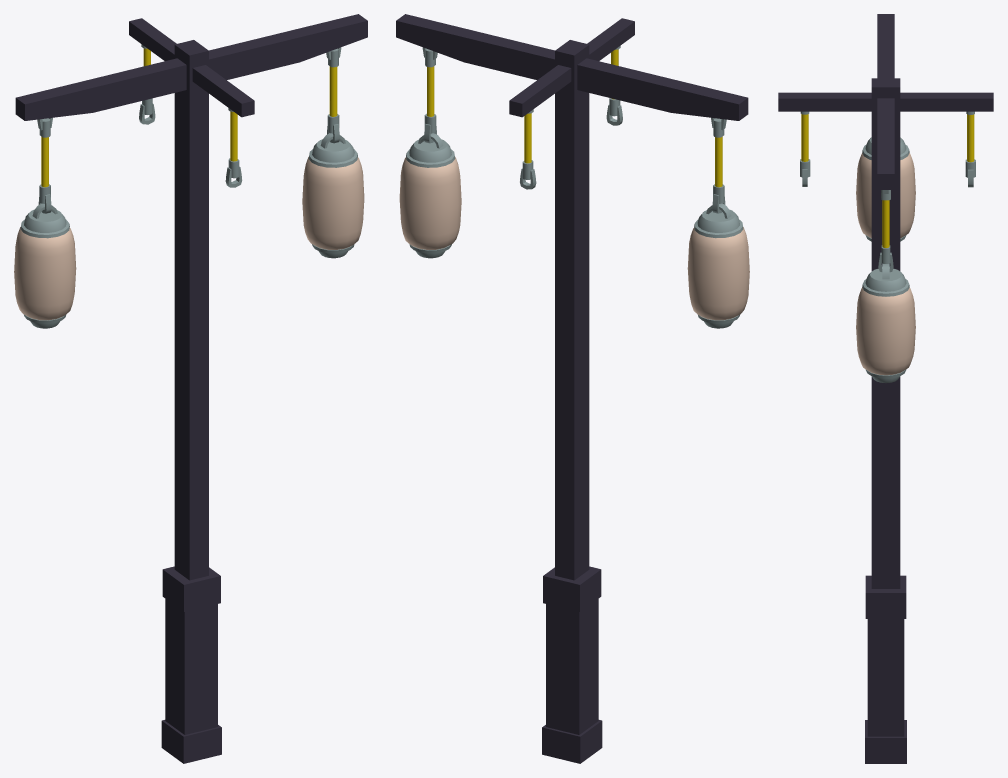
The model's file is lamppost_01.fbx.
3 views of the same model, side by side, from view 1: azimuth 30°, elevation 25°; view 2: azimuth 150°, elevation 25°; view 3: azimuth 270°, elevation 25° (orthographic). The views are drawn at different scales.
Visible parts, largest first — view 1: lamppost_01; view 2: lamppost_01; view 3: lamppost_01.
Part boxes in pixels (<box>): lamppost_01: <box>14,14,367,763</box>; lamppost_01: <box>396,14,749,763</box>; lamppost_01: <box>778,14,993,763</box>.
Bounding box in the file's own units: 202 × 394 × 114.
